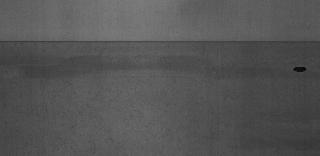punching hole: (292, 66, 308, 74)
welding line: (1, 36, 320, 48)
